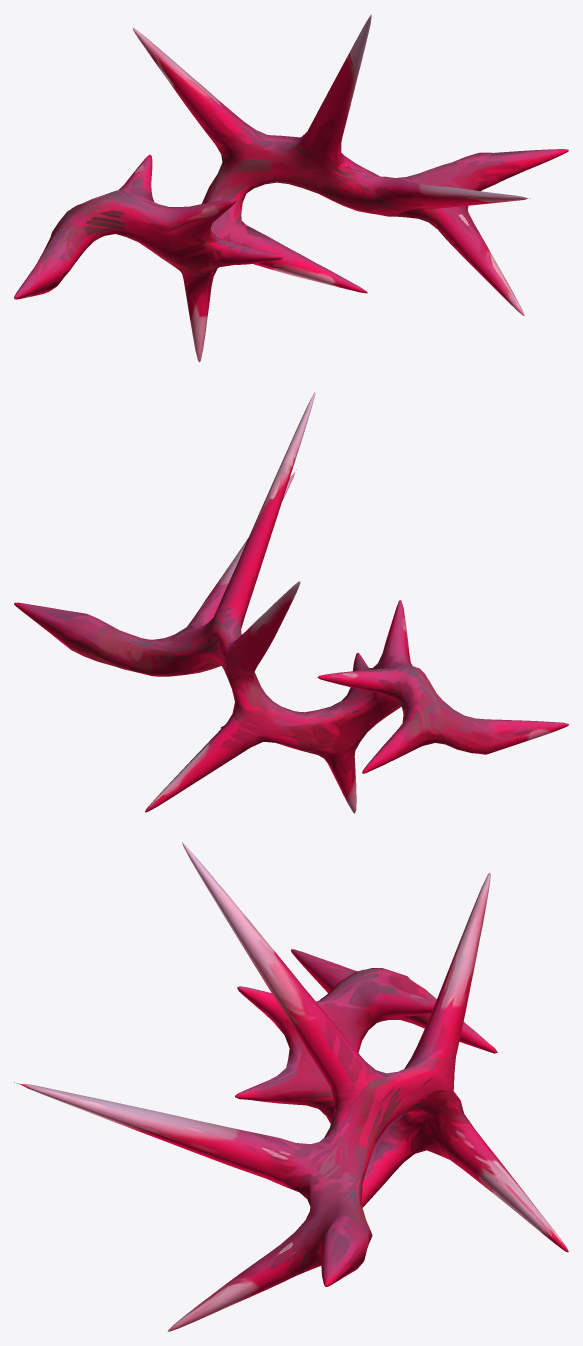
File: red_thorn.glb
The picture shows the model from 3 angles, top to bottom: view 1: azimuth 30°, elevation 25°; view 2: azimuth 150°, elevation 25°; view 3: azimuth 270°, elevation 25°; orthographic projection. The views are drawn at different scales.
Parts seen in each view (by area): view 1: Object_2; view 2: Object_2; view 3: Object_2.
Part boxes in pixels (box(x1,y1,x2,y2)): Object_2: box(14, 14, 568, 362); Object_2: box(14, 391, 568, 813); Object_2: box(14, 842, 568, 1331).
Size of the model in its own units: 881 by 547 by 616.
1 material, 1 textured.
